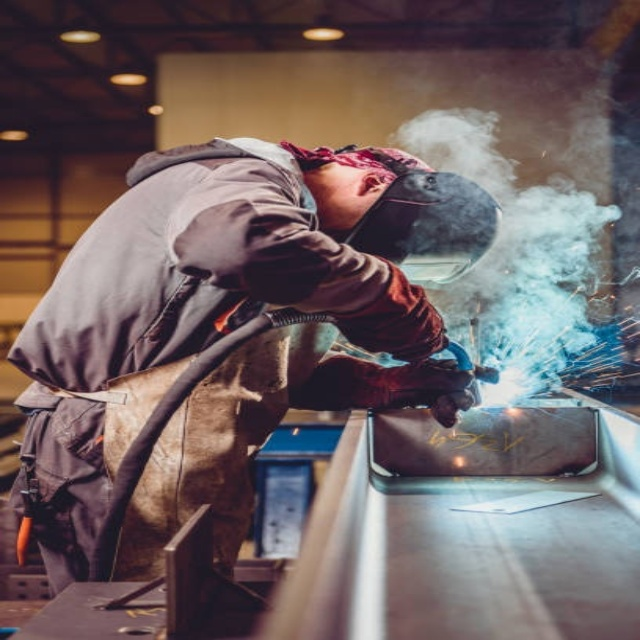Guantes: (299, 257, 450, 365), (297, 354, 476, 422)
